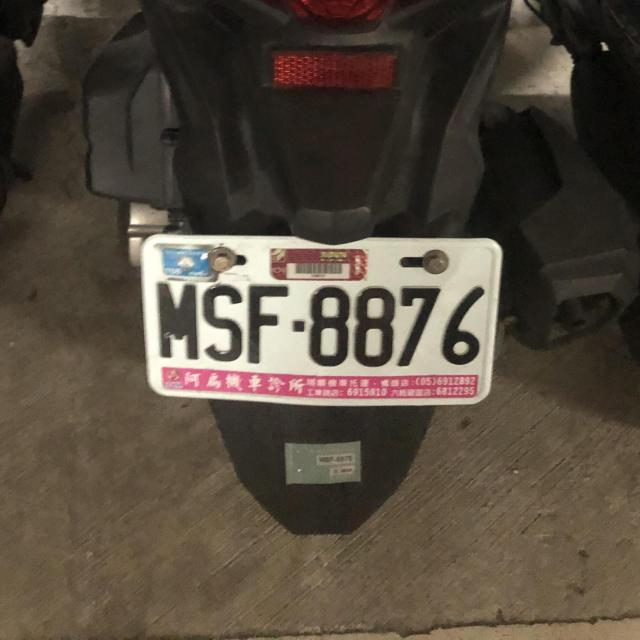W: (130, 219, 506, 415)
